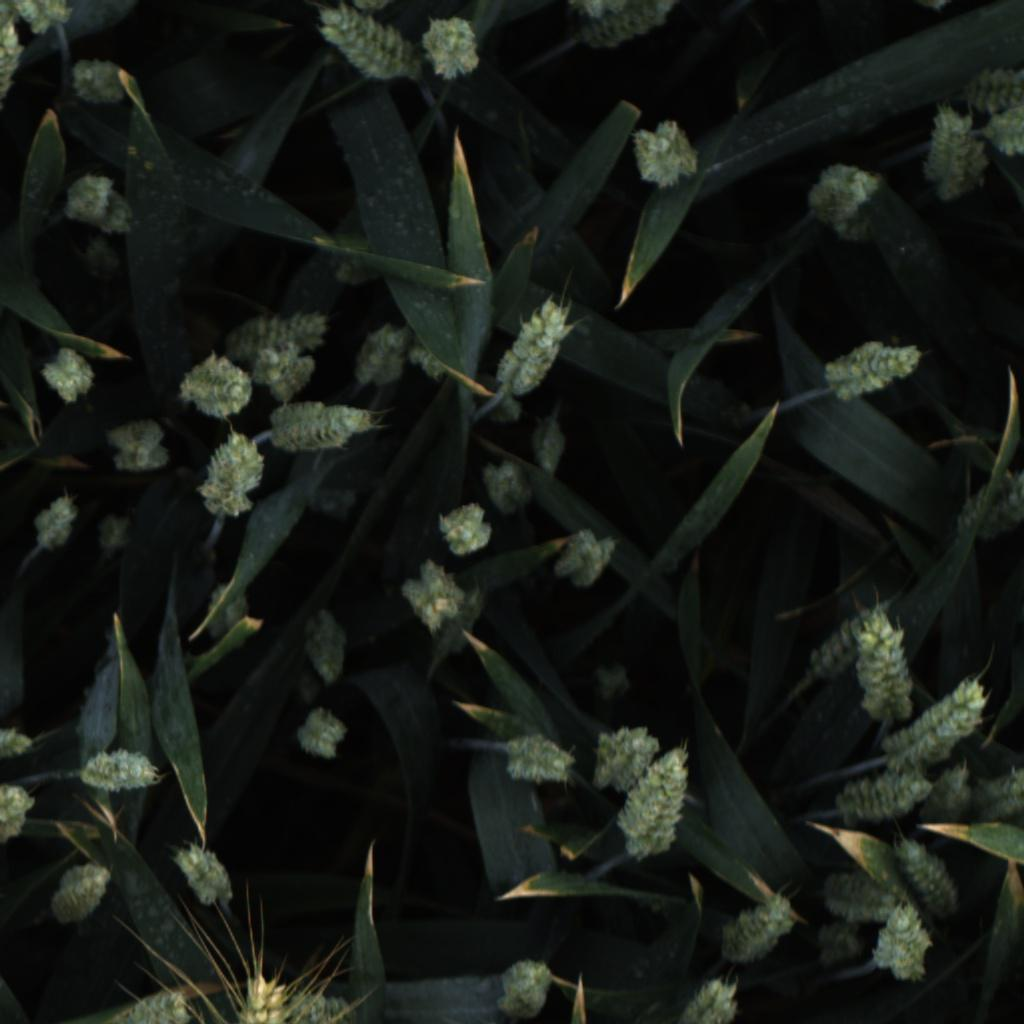0-0: (612, 746, 700, 859), (319, 1, 425, 86), (492, 295, 576, 401), (893, 669, 988, 762), (801, 160, 893, 247), (849, 603, 915, 724), (823, 331, 922, 407), (920, 101, 991, 206), (828, 755, 935, 823), (265, 396, 381, 457), (570, 2, 678, 66), (715, 890, 799, 972), (194, 432, 267, 526), (892, 836, 969, 922), (168, 832, 241, 918), (625, 116, 704, 195), (949, 458, 1024, 541), (496, 723, 582, 793), (42, 854, 119, 932), (588, 723, 667, 799), (222, 306, 333, 358), (174, 351, 256, 420), (803, 607, 869, 692), (412, 14, 488, 87), (487, 952, 565, 1023), (544, 525, 623, 595), (867, 900, 931, 983), (348, 318, 416, 395), (397, 560, 469, 631), (102, 412, 178, 479), (75, 743, 164, 799), (914, 759, 981, 830), (299, 605, 355, 688), (248, 342, 324, 403), (36, 340, 99, 407), (288, 704, 355, 766), (430, 587, 485, 661), (816, 864, 889, 919), (478, 452, 537, 520), (434, 499, 497, 560), (26, 490, 85, 555), (669, 974, 743, 1024), (227, 969, 294, 1024), (410, 343, 482, 394), (326, 228, 385, 289), (80, 505, 138, 565), (961, 62, 1024, 116), (808, 916, 864, 975), (107, 986, 193, 1024), (202, 582, 252, 646), (0, 779, 45, 850), (977, 766, 1024, 832), (69, 57, 132, 106), (58, 172, 115, 226), (283, 986, 357, 1024), (11, 0, 73, 41), (526, 416, 567, 477), (981, 103, 1024, 159), (0, 19, 27, 105), (92, 190, 139, 237), (0, 719, 38, 768), (488, 397, 523, 424), (0, 0, 22, 35), (351, 0, 390, 12)
